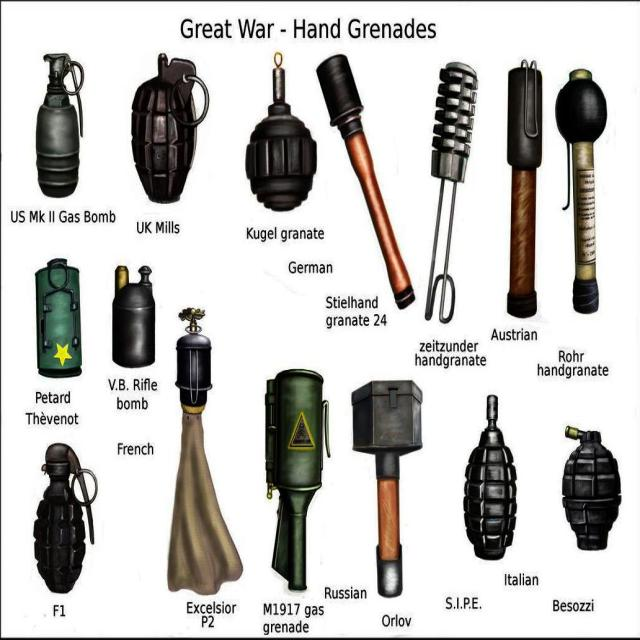grenade: (132, 54, 212, 205), (246, 54, 321, 215), (35, 444, 99, 596), (464, 396, 519, 563), (562, 425, 623, 554), (112, 267, 157, 366)
